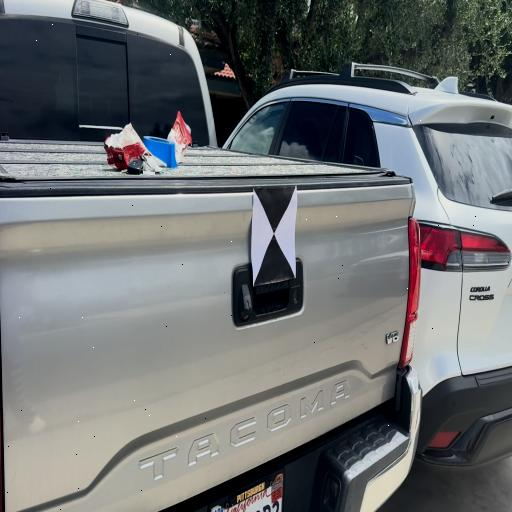target: (253, 188, 296, 276)
